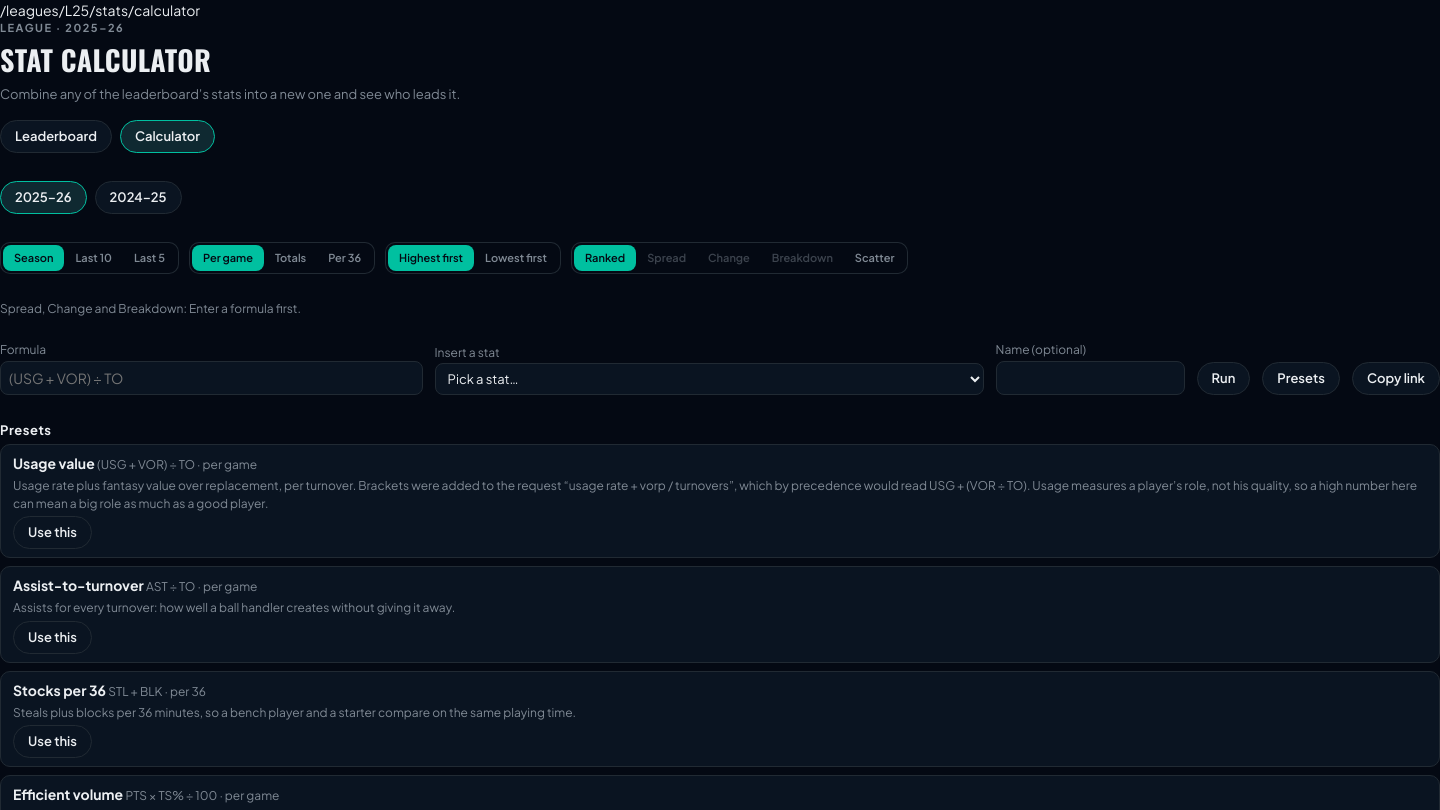
Test: StatCalculator presets (US2, T020) › choosing one sets f, n and m, runs it, and hides the list
Expected: the field labelled "Formula" is shown, [0,361,422,395]
Click the button "Use this" below "Usage value" at (52, 532), box [13,516,92,549]
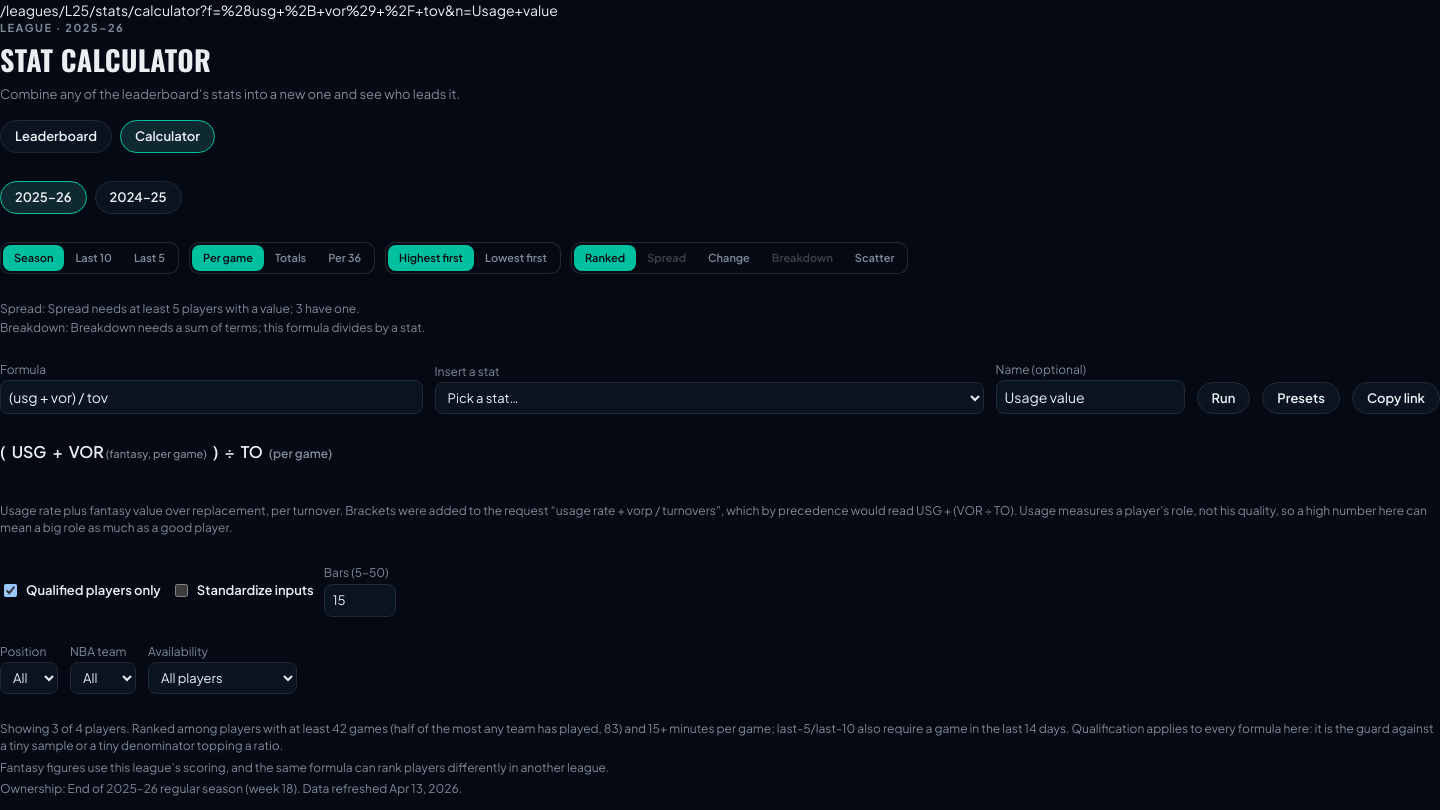
Expected: the text with test id "where" shows "f=%28usg+%2B+vor%29+%2F+tov", [0,1,558,19]
Expected: the text with test id "where" shows "n=Usage+value", [0,1,558,19]
Expected: the field labelled "Formula" holds "(usg + vor) / tov", [0,380,422,414]
